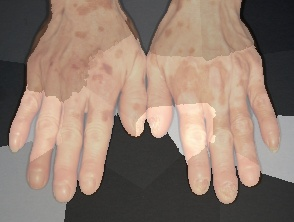vitiligo: (4, 0, 172, 199), (145, 1, 278, 191)
